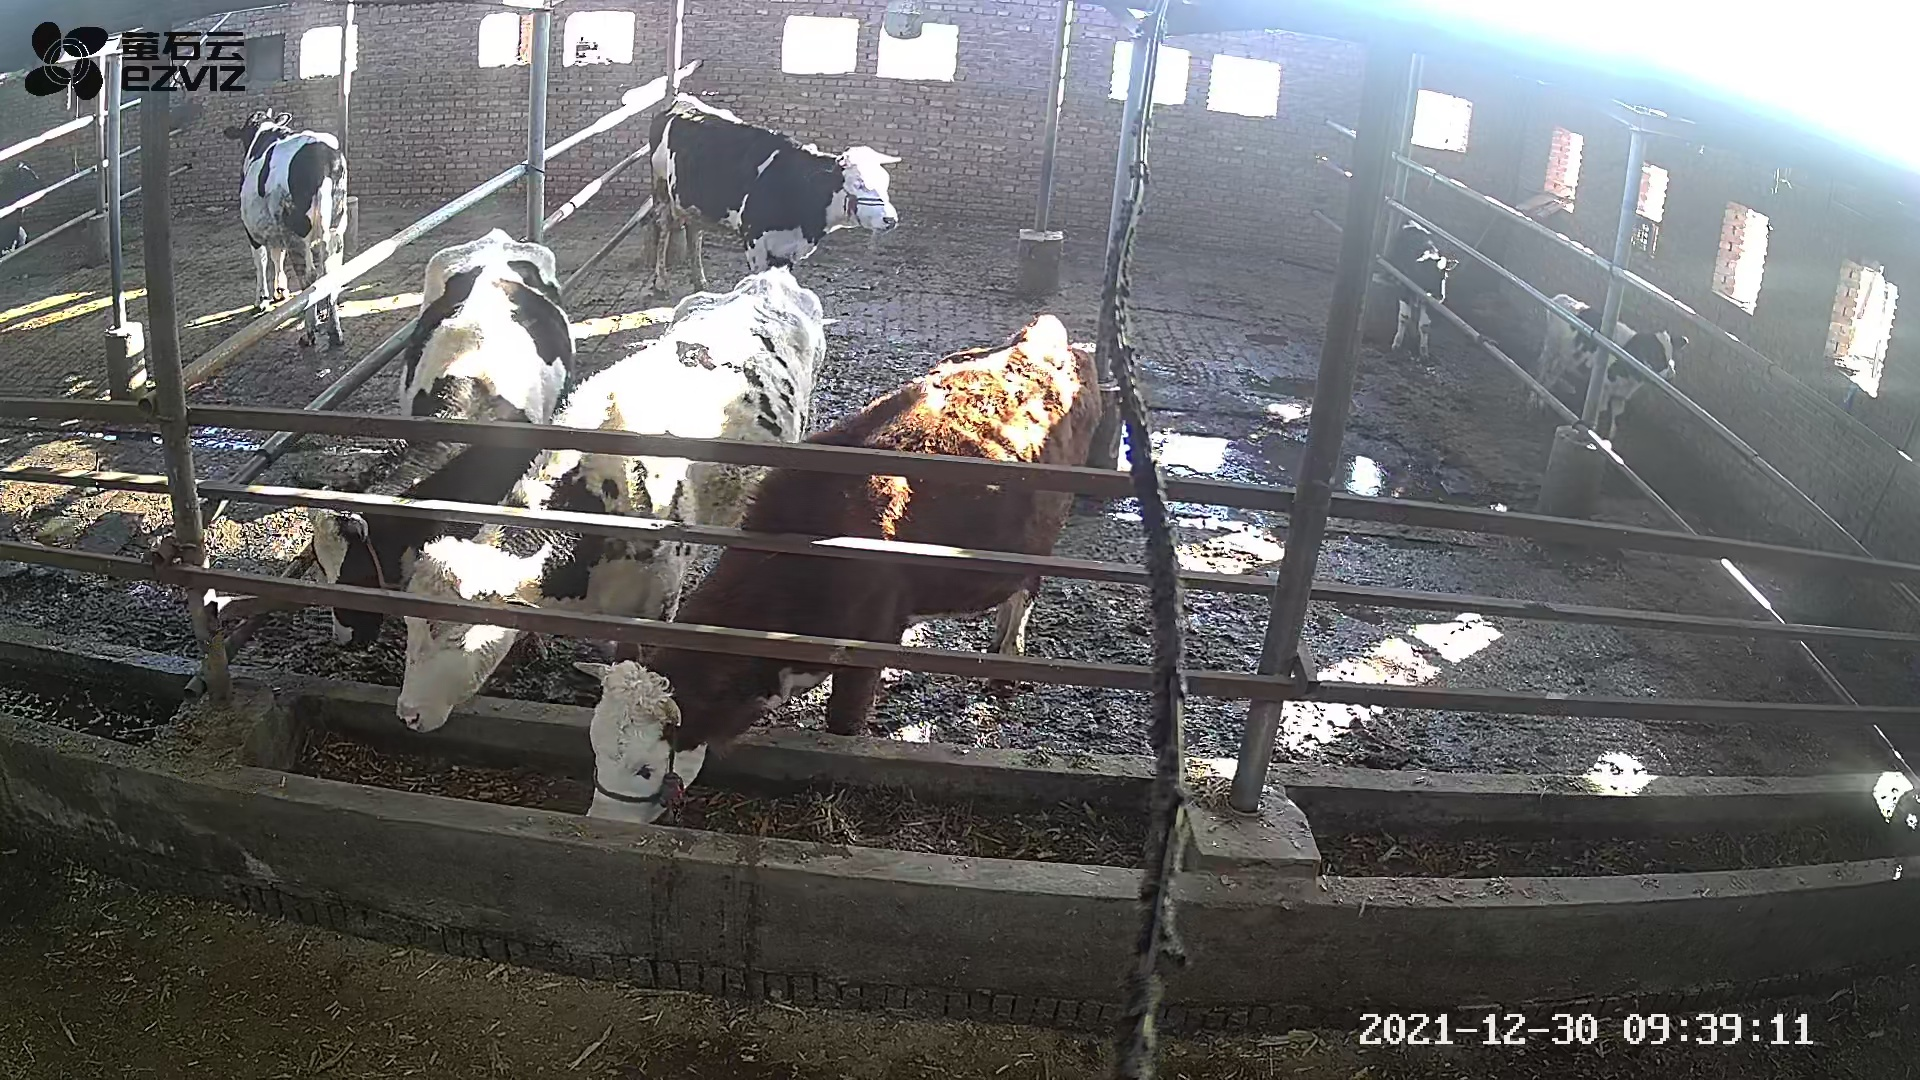cow: (571, 313, 1102, 827), (394, 266, 827, 732), (307, 225, 579, 655), (647, 92, 905, 301)
